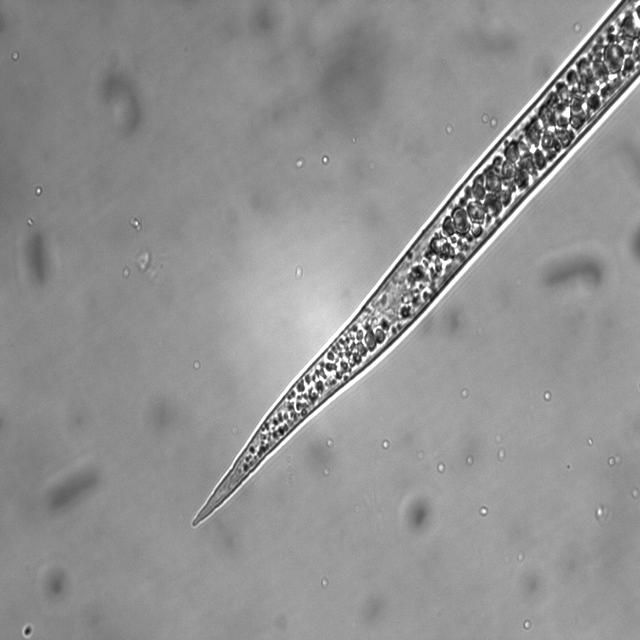Meloidogyne: (188, 0, 640, 531)
